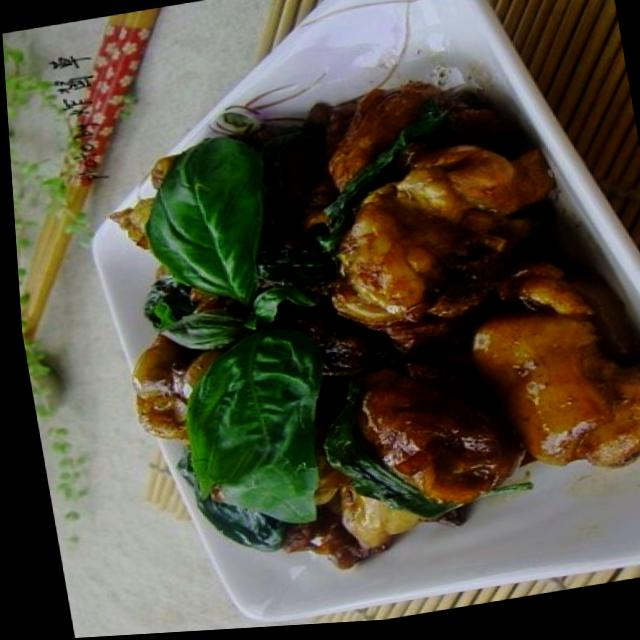鸡肉料理 含炸鸡: (61, 0, 640, 615)
